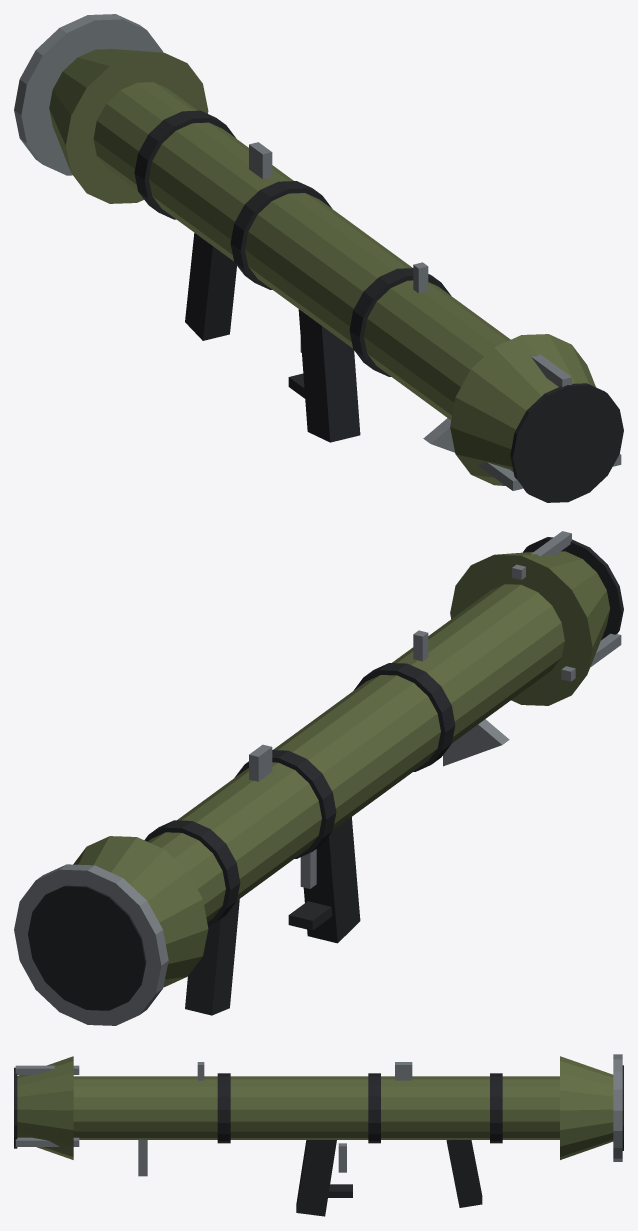
The model's file is Bazooka.glb.
3 views of the same model, one above another, from view 1: azimuth 30°, elevation 25°; view 2: azimuth 150°, elevation 25°; view 3: azimuth 270°, elevation 25° (orthographic). The views are drawn at different scales.
Visible parts, largest first — view 1: Tube, TailHole, Tail, Mouth, MouthLip, GripRear, GripFront, Band1, Band2, Band0, Sight; view 2: Tube, MouthHole, Tail, MouthLip, Mouth, GripRear, GripFront, Band0, Band2, Band1, TailHole, Support (+4 smaller); view 3: Tube, Mouth, Tail, GripRear, GripFront, MouthLip, Band0, Band1, Band2, Strut0, Strut2, Support (+4 smaller).
Boxes of the visible parts, x1=… form: Tube: x1=93, y1=82, x2=510, y2=420; TailHole: x1=510, y1=383, x2=623, y2=502; Tail: x1=450, y1=334, x2=595, y2=485; Mouth: x1=49, y1=49, x2=208, y2=203; MouthLip: x1=14, y1=14, x2=163, y2=175; GripRear: x1=298, y1=309, x2=360, y2=442; GripFront: x1=185, y1=233, x2=236, y2=340; Band1: x1=230, y1=181, x2=332, y2=289; Band2: x1=134, y1=110, x2=236, y2=219; Band0: x1=349, y1=268, x2=451, y2=376; Sight: x1=249, y1=142, x2=272, y2=178; Tube: x1=147, y1=584, x2=564, y2=922; MouthHole: x1=28, y1=885, x2=146, y2=1010; Tail: x1=450, y1=551, x2=609, y2=705; MouthLip: x1=14, y1=864, x2=168, y2=1025; Mouth: x1=73, y1=836, x2=208, y2=987; GripRear: x1=303, y1=817, x2=360, y2=943; GripFront: x1=185, y1=899, x2=239, y2=1015; Band0: x1=353, y1=663, x2=455, y2=771; Band2: x1=144, y1=820, x2=240, y2=925; Band1: x1=234, y1=750, x2=336, y2=858; TailHole: x1=523, y1=537, x2=623, y2=640; Support: x1=443, y1=719, x2=509, y2=766; Tube: x1=73, y1=1076, x2=559, y2=1139; Mouth: x1=560, y1=1056, x2=613, y2=1159; Tail: x1=17, y1=1056, x2=73, y2=1159; GripRear: x1=296, y1=1140, x2=336, y2=1216; GripFront: x1=446, y1=1140, x2=482, y2=1207; MouthLip: x1=613, y1=1054, x2=622, y2=1161; Band0: x1=217, y1=1073, x2=230, y2=1143; Band1: x1=368, y1=1073, x2=380, y2=1143; Band2: x1=490, y1=1073, x2=502, y2=1143; Strut0: x1=15, y1=1065, x2=79, y2=1074; Strut2: x1=15, y1=1137, x2=79, y2=1146; Support: x1=138, y1=1139, x2=147, y2=1176.
Bounding box in the file's own units: 0.186 × 0.2907 × 1.05.
